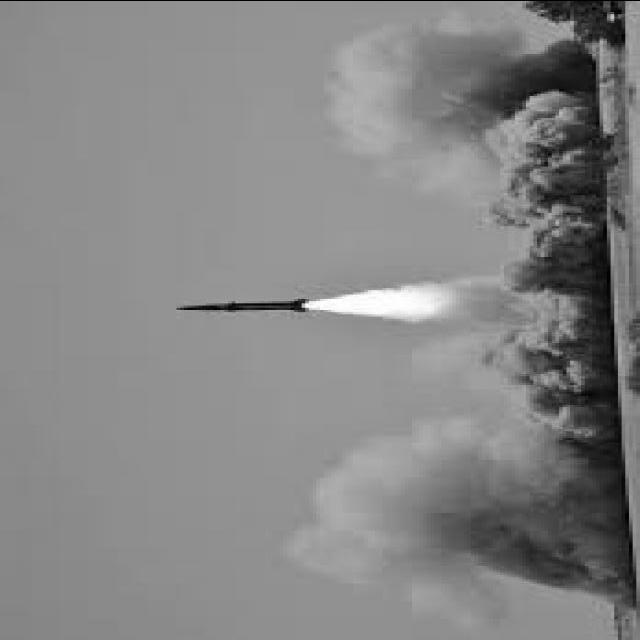Missile: (170, 298, 334, 311)
